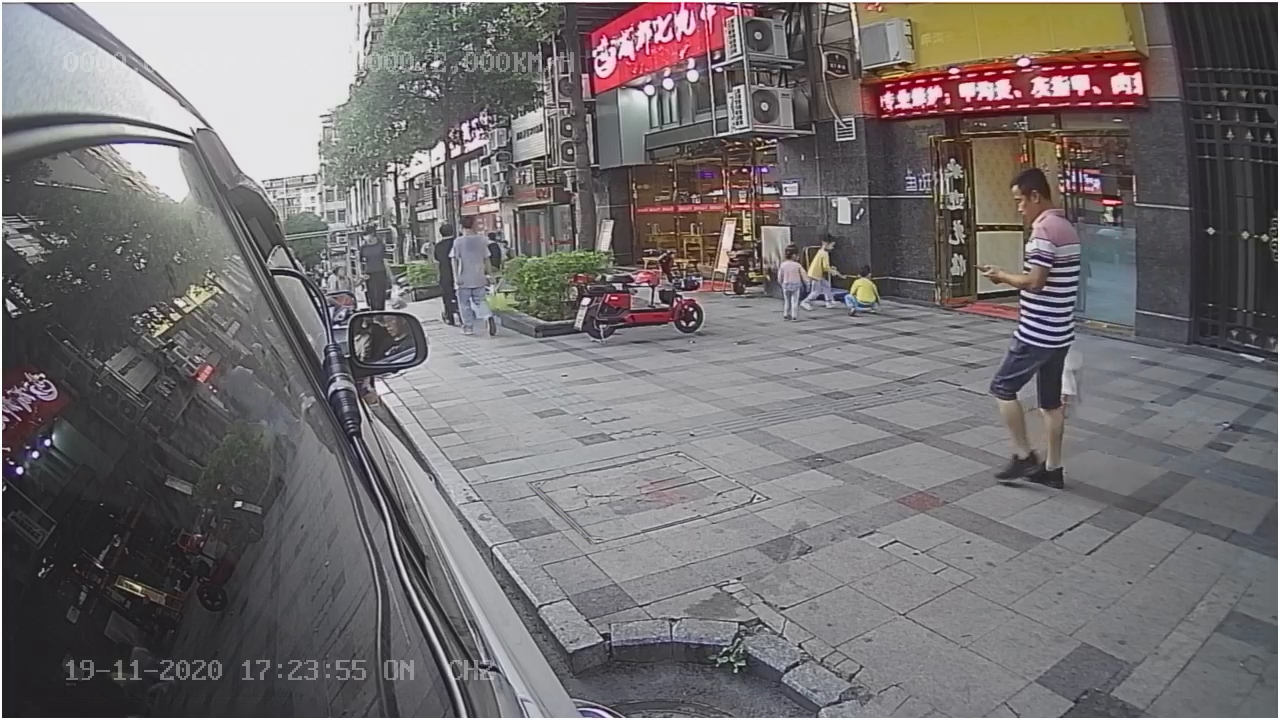person: (976, 168, 1088, 496), (449, 212, 498, 338), (804, 231, 841, 315), (841, 265, 888, 318), (775, 242, 807, 318)
